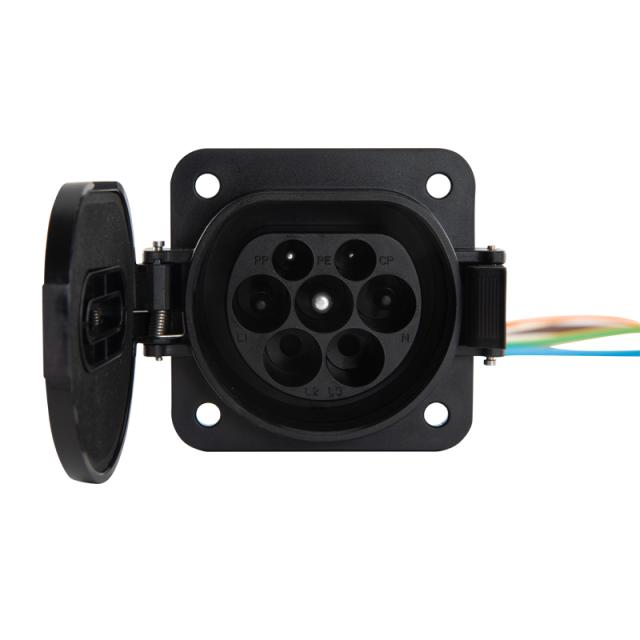inlet: (227, 233, 420, 400)
inlet-above-left: (272, 239, 315, 281)
inlet-above-right: (335, 239, 377, 281)
inlet-below-left: (263, 328, 322, 387)
inlet-below-right: (326, 328, 385, 387)
inlet-circle: (295, 274, 353, 333)
inlet-circle-left: (232, 273, 292, 334)
inlet-circle-right: (356, 273, 416, 334)
